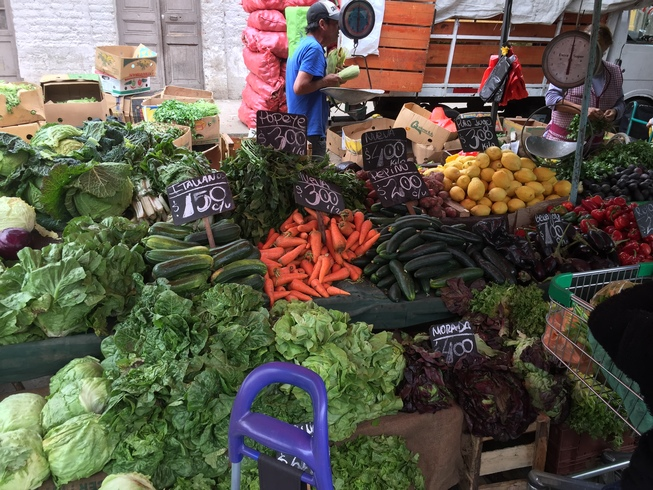precio: (251, 104, 325, 166), (163, 172, 240, 226), (368, 156, 433, 211), (450, 109, 511, 166), (356, 122, 417, 171), (290, 166, 347, 218), (425, 317, 482, 364), (533, 207, 576, 249)
